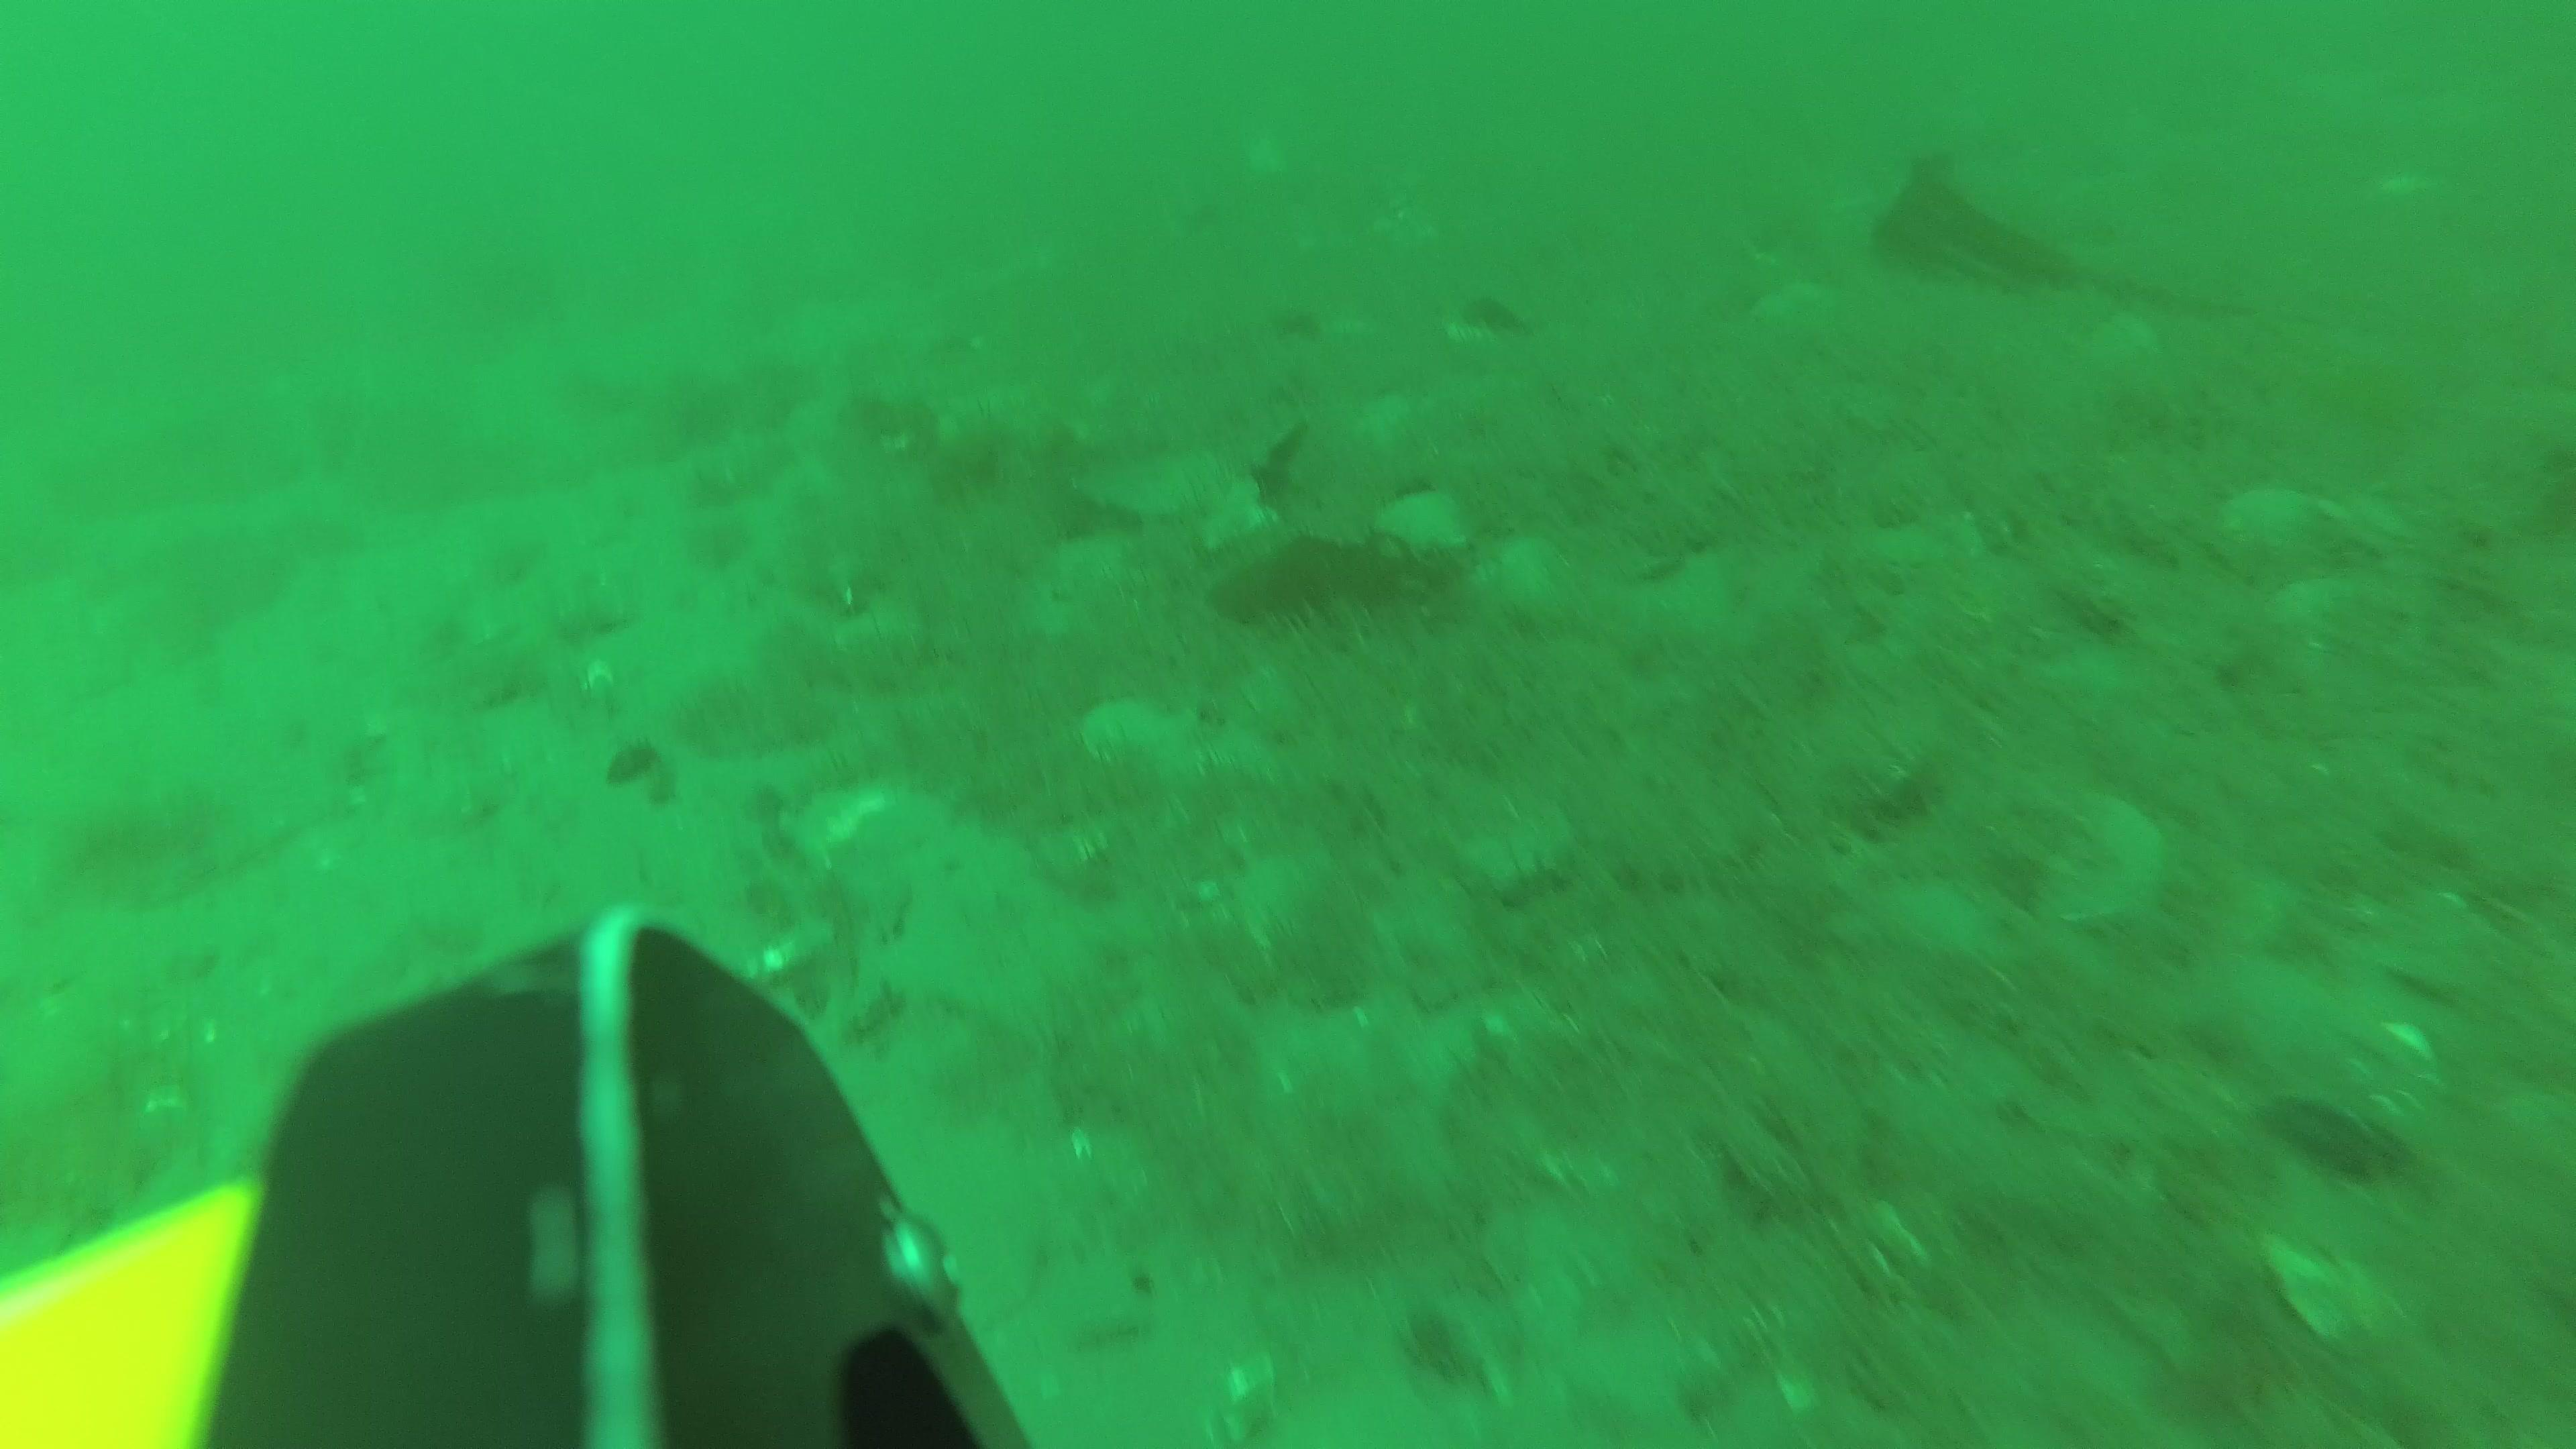scallop: (2026, 794, 2167, 927), (780, 780, 947, 874), (1086, 697, 1194, 780), (1382, 490, 1463, 561)
